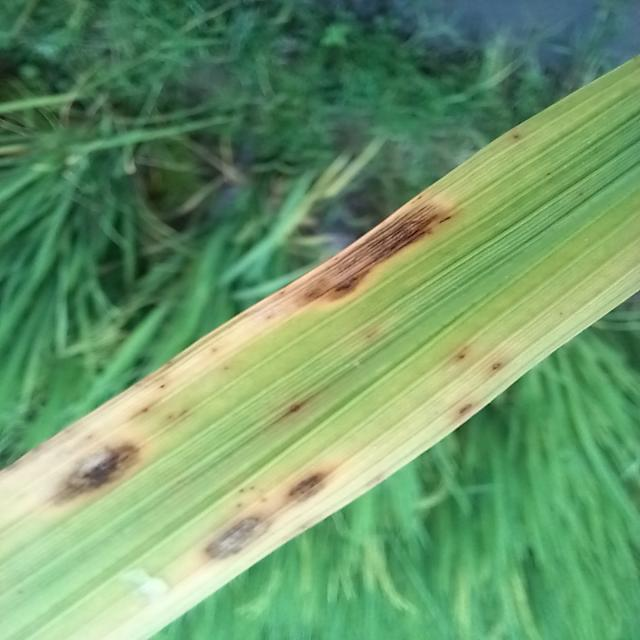Leaf_Blast: (279, 194, 453, 313), (45, 440, 142, 506), (266, 464, 342, 516), (200, 513, 272, 562)
